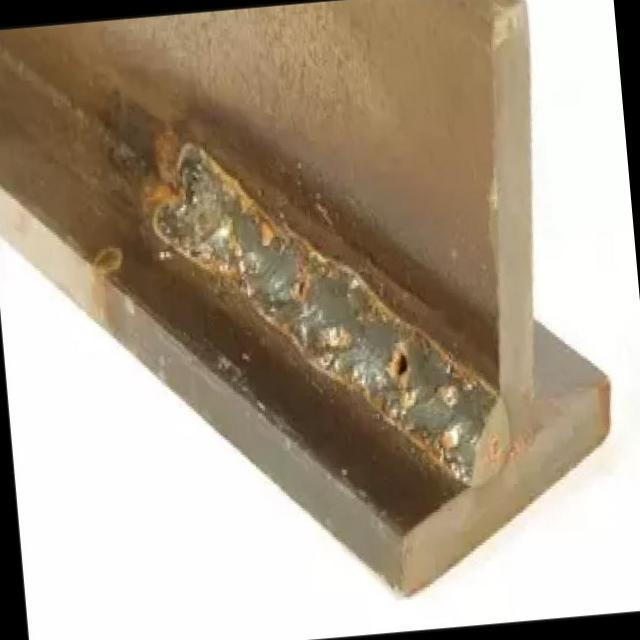defect: (391, 344, 411, 378), (293, 269, 310, 298)
